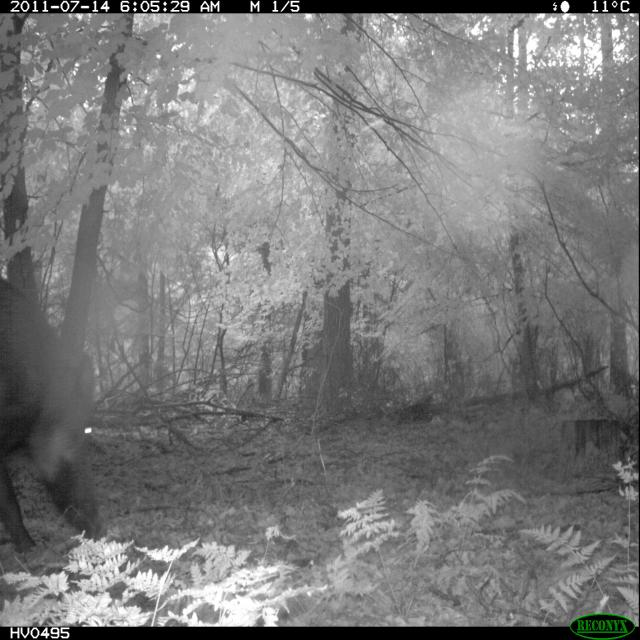boar: (0, 246, 149, 566)
